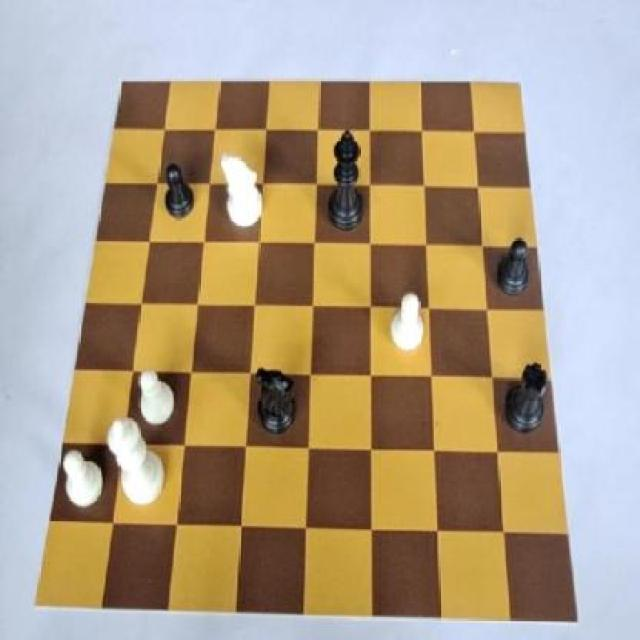black-bishop: (325, 128, 367, 235)
black-king: (254, 360, 301, 442)
black-knight: (160, 156, 201, 232), (492, 232, 535, 304)
black-queen: (500, 354, 553, 443)
white-bishop: (105, 412, 170, 518)
white-king: (215, 149, 267, 230)
white-knight: (60, 443, 108, 517), (384, 291, 428, 365), (131, 365, 180, 430)
